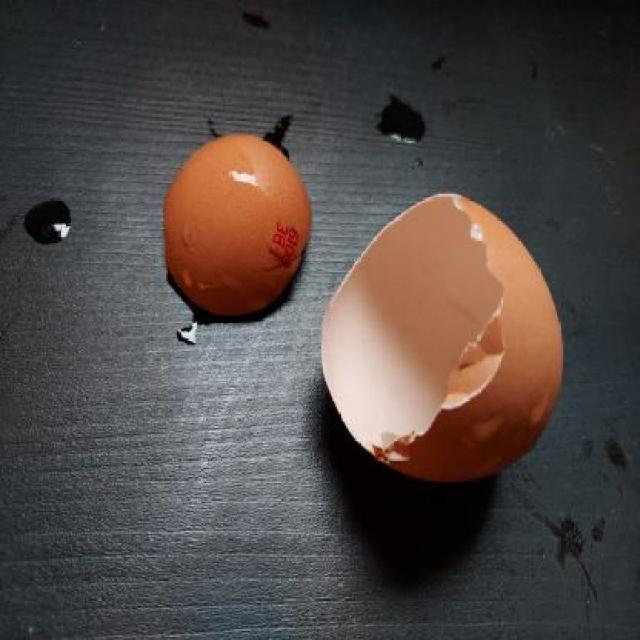biodegradable: (315, 186, 568, 488), (160, 128, 312, 322)
